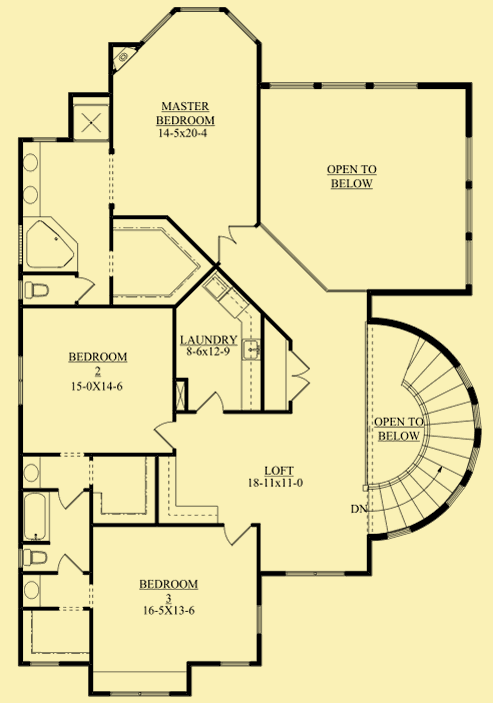bathroom has a large sink and tub: (19, 488, 93, 576)
bathroom has dual sinks, large sink and tub space: (16, 141, 112, 310)
laundry room has washer and dryer: (173, 265, 268, 417)
